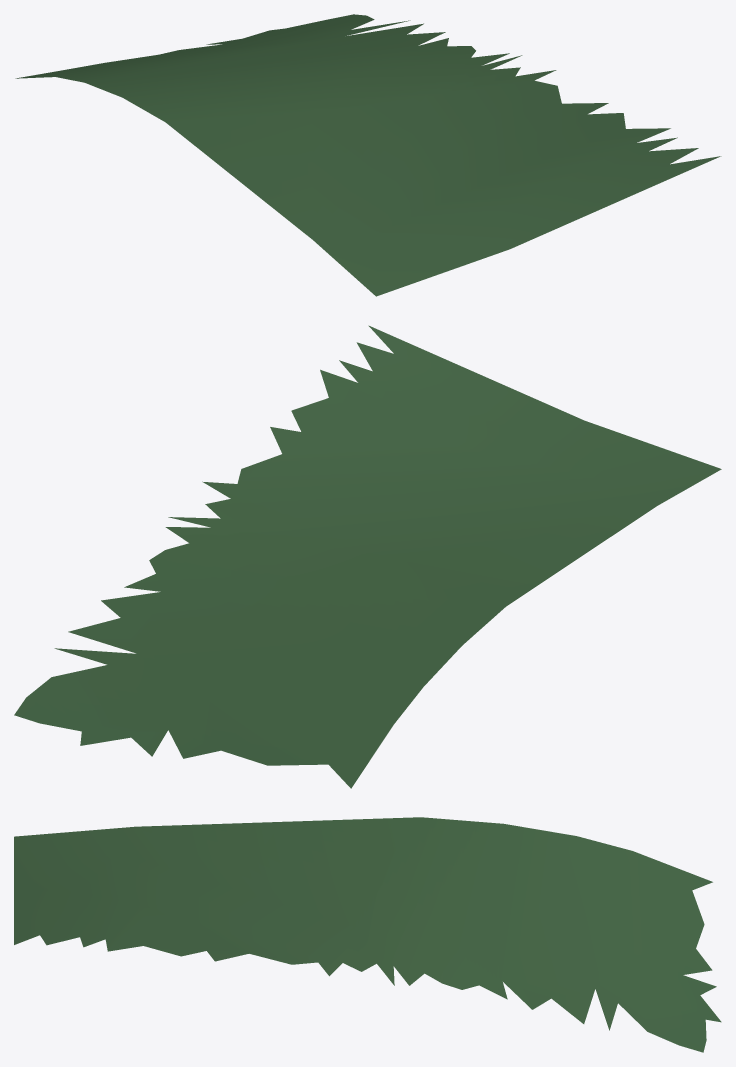
File: payo_land_x4_y10_lod2.glb
3 views of the same model, one above another, from view 1: azimuth 30°, elevation 25°; view 2: azimuth 150°, elevation 25°; view 3: azimuth 270°, elevation 25° (orthographic). The views are drawn at different scales.
Visible parts, largest first — view 1: payo_land_x4_y10; view 2: payo_land_x4_y10; view 3: payo_land_x4_y10.
Boxes of the visible parts, box(x1,y1,x2,y2) form: payo_land_x4_y10: box(15, 14, 721, 296); payo_land_x4_y10: box(14, 325, 721, 788); payo_land_x4_y10: box(14, 817, 721, 1052).
Bounding box in the file's own units: 136 × 45.61 × 249.
